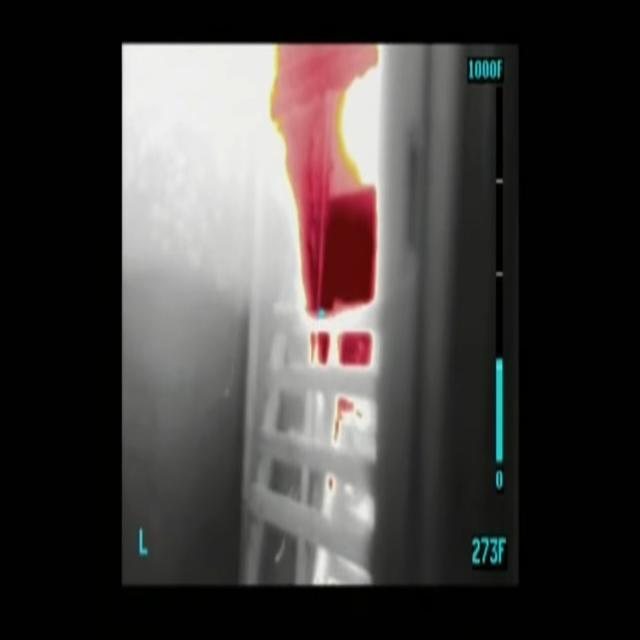fire: (268, 43, 385, 373)
